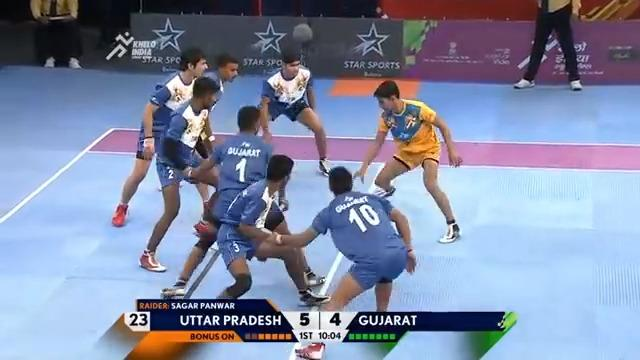Player: (262, 165, 417, 358), (161, 153, 331, 306), (111, 47, 209, 227), (138, 75, 220, 272), (254, 46, 332, 176), (512, 0, 583, 91)
Raider: (352, 79, 463, 243)
referee: (29, 0, 83, 69)
